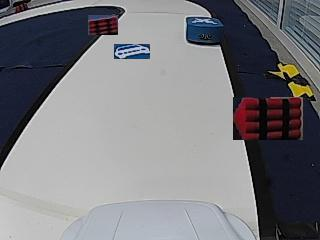prop: (186, 17, 224, 45)
